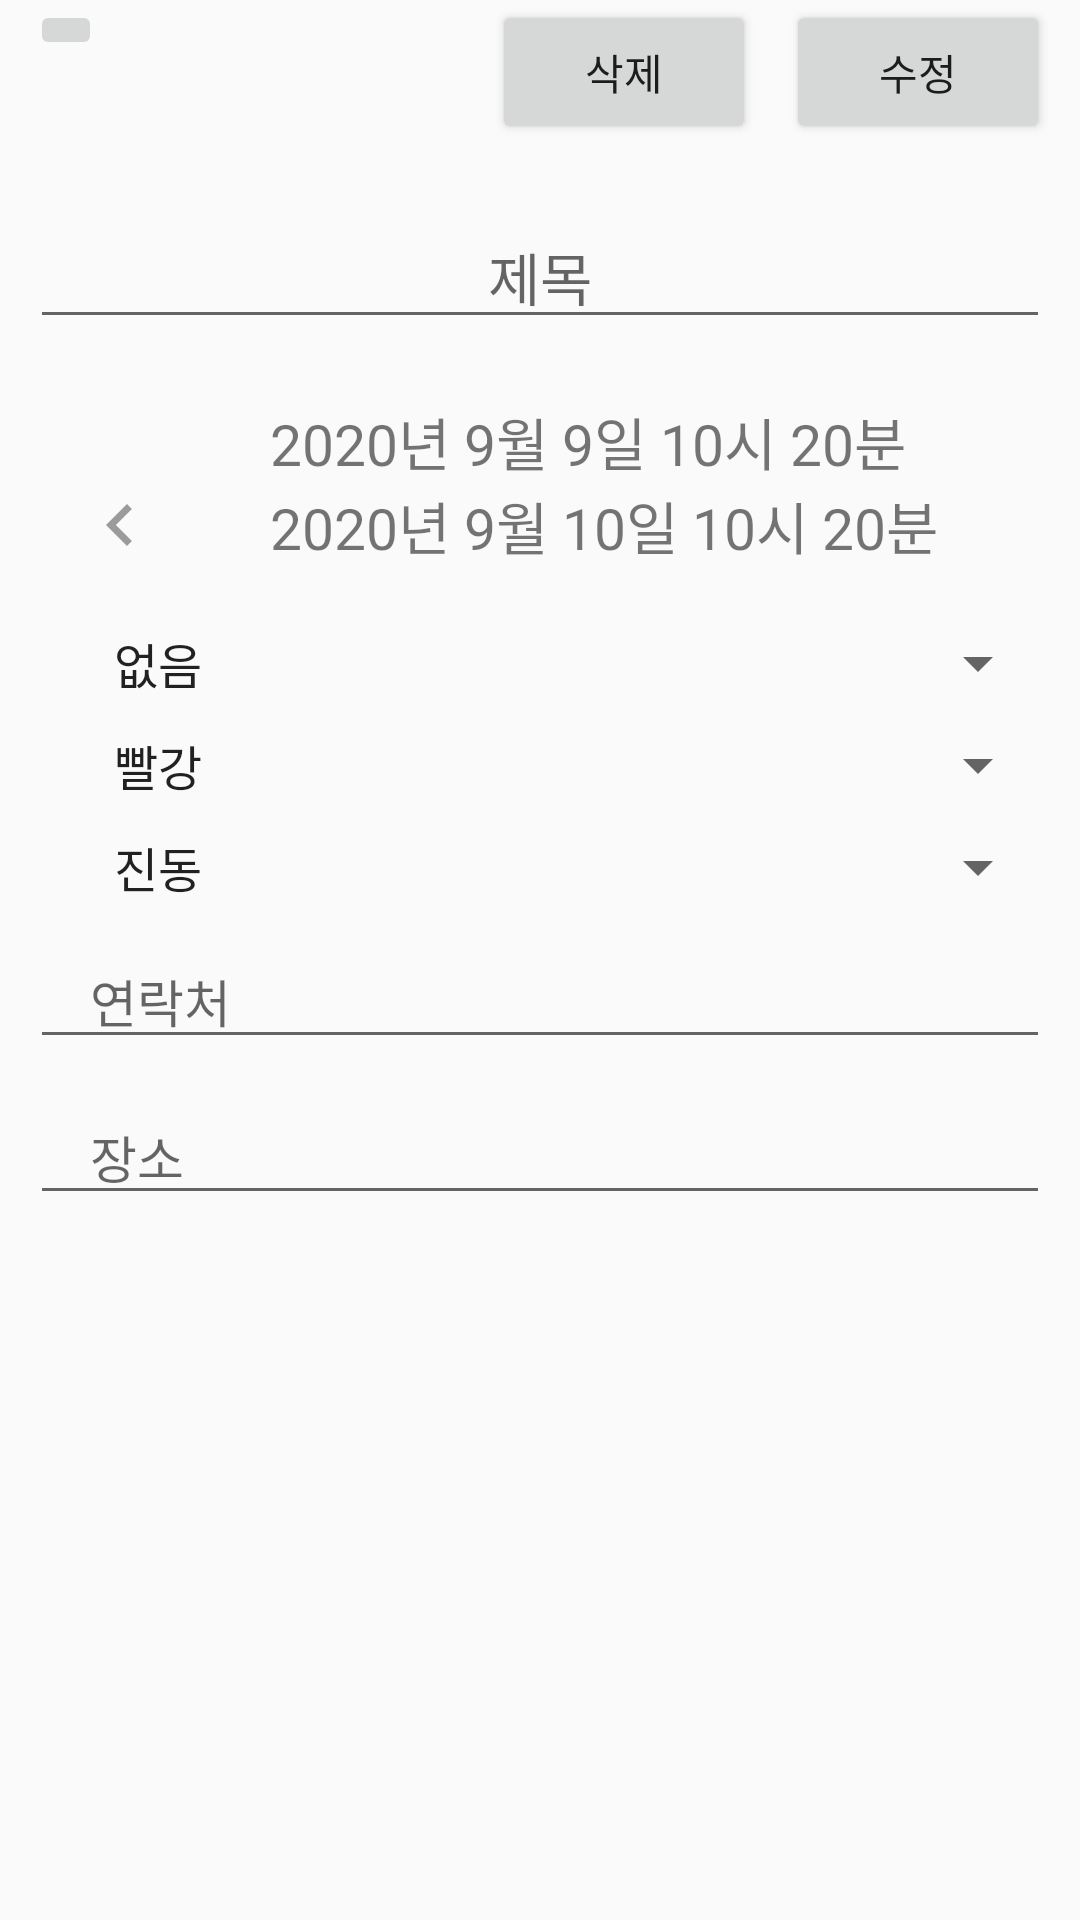

Icons on this 1080×1920 Android screen, each with the point to tap as [x,y]:
chevron left: [119,525]
